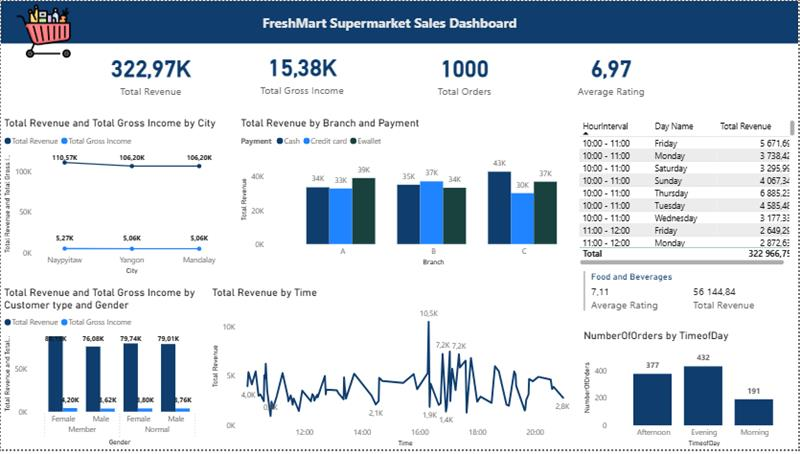

Layout of this report page (visuals, bound fields, positions):
{"tool":"powerbi","page":{"name":"Sales Dashboard","canvas":[1280,720],"ordinal":0},"visuals":[{"type":"card","fields":{"Values":["supermarket_sales_facttable.Total Revenue"]},"box":[165.7,67.7,190.9,92.9],"z":0},{"type":"card","fields":{"Values":["supermarket_sales_facttable.Total Gross Income"]},"box":[396,67.7,207.1,94.9],"z":1000},{"type":"card","fields":{"Values":["supermarket_sales_facttable.Total Orders"]},"box":[697,69.1,208.8,93.6],"z":2000},{"type":"card","fields":{"Values":["supermarket_sales_facttable.Average Rating"]},"box":[930.2,67.7,208.8,93.6],"z":3000},{"type":"clusteredColumnChart","title":"Total Revenue & Gross Income by City","fields":{"Category":["supermarket_sales_facttable.City"],"Y":["supermarket_sales_facttable.Total Revenue","supermarket_sales_facttable.Total Gross Income"]},"box":[0,239.4,379.8,204],"z":4000},{"type":"clusteredColumnChart","fields":{"Category":["dim_customer_details.Customer type"],"Y":["supermarket_sales_facttable.Total Revenue","supermarket_sales_facttable.Total Gross Income"]},"box":[0,458.6,356.6,260.6],"z":5000},{"type":"shape","box":[0,0,1280,68.4],"z":6000},{"type":"clusteredColumnChart","fields":{"Category":["dim_city_details.Branch"],"Y":["supermarket_sales_facttable.Total Revenue"],"Series":["supermarket_sales_facttable.Payment"]},"box":[380,238.9,543.3,218.9],"z":7000},{"type":"lineChart","fields":{"Y":["supermarket_sales_facttable.Total Revenue"],"Category":["CalendarTable.Date.Variation.Date Hierarchy.Month","CalendarTable.Date.Variation.Date Hierarchy.Day","CalendarTable.Time"]},"box":[380.2,457.9,542.9,262.1],"z":8000},{"type":"barChart","title":"Orders by Time of Day","fields":{"Category":["CalendarTable.Day Name"],"Series":["supermarket_sales_facttable.TimeofDay"],"Y":["supermarket_sales_facttable.Orders by DayName"]},"box":[930.3,284.8,349.5,230.3],"z":9000},{"type":"columnChart","title":"Orders and Revenue by Time of Day","fields":{"Category":["supermarket_sales_facttable.TimeofDay"],"Y":["supermarket_sales_facttable.NumberOfOrders"]},"box":[923.2,515.2,356.6,205.1],"z":10000},{"type":"image","box":[0,0,136.5,96.9],"z":11000},{"type":"textbox","box":[240,16,768,37.8],"z":12000},{"type":"multiRowCard","fields":{"Values":["dim_product_details.Product line","supermarket_sales_facttable.Average Rating","supermarket_sales_facttable.Total Revenue"]},"box":[923.2,193.9,356.6,90.9],"z":13000},{"type":"advancedSlicerVisual","fields":{"Values":["dim_customer_details.Gender"]},"box":[51.1,172.2,305.6,43.3],"z":14000},{"type":"advancedSlicerVisual","fields":{"Values":["dim_city_details.City"]},"box":[436.7,172.2,406.7,43.3],"z":15000},{"type":"textbox","box":[970.7,172.7,300,30.3],"z":16000}]}

Visuals, with their boxes in screenshot pixels (x1, y1, x2, y2), scaled from the page's 1280x720 canvas onto the 800x454 screenshot:
card - supermarket_sales_facttable.Total Revenue: pyautogui.locateOnScreen(104, 43, 223, 101)
card - supermarket_sales_facttable.Total Gross Income: pyautogui.locateOnScreen(248, 43, 377, 103)
card - supermarket_sales_facttable.Total Orders: pyautogui.locateOnScreen(436, 44, 566, 103)
card - supermarket_sales_facttable.Average Rating: pyautogui.locateOnScreen(581, 43, 712, 102)
"Total Revenue & Gross Income by City" clusteredColumnChart: pyautogui.locateOnScreen(0, 151, 237, 280)
clusteredColumnChart - dim_customer_details.Customer type x supermarket_sales_facttable.Total Revenue: pyautogui.locateOnScreen(0, 289, 223, 453)
shape: pyautogui.locateOnScreen(0, 0, 799, 43)
clusteredColumnChart - dim_city_details.Branch x supermarket_sales_facttable.Total Revenue: pyautogui.locateOnScreen(238, 151, 577, 289)
lineChart - supermarket_sales_facttable.Total Revenue x CalendarTable.Date.Variation.Date Hierarchy.Month: pyautogui.locateOnScreen(238, 289, 577, 453)
"Orders by Time of Day" barChart: pyautogui.locateOnScreen(581, 180, 799, 325)
"Orders and Revenue by Time of Day" columnChart: pyautogui.locateOnScreen(577, 325, 799, 453)
image: pyautogui.locateOnScreen(0, 0, 85, 61)
textbox: pyautogui.locateOnScreen(150, 10, 630, 34)
multiRowCard - dim_product_details.Product line x supermarket_sales_facttable.Average Rating: pyautogui.locateOnScreen(577, 122, 799, 180)
advancedSlicerVisual - dim_customer_details.Gender: pyautogui.locateOnScreen(32, 109, 223, 136)
advancedSlicerVisual - dim_city_details.City: pyautogui.locateOnScreen(273, 109, 527, 136)
textbox: pyautogui.locateOnScreen(607, 109, 794, 128)
